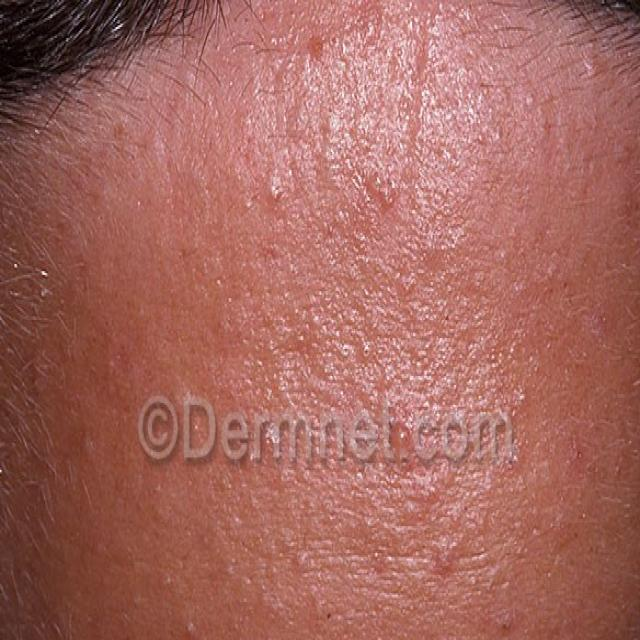Acne: (200, 41, 640, 231), (503, 364, 566, 511), (408, 507, 481, 595), (382, 369, 419, 500), (147, 589, 231, 640), (282, 534, 326, 595), (353, 319, 385, 384), (397, 264, 428, 312)
